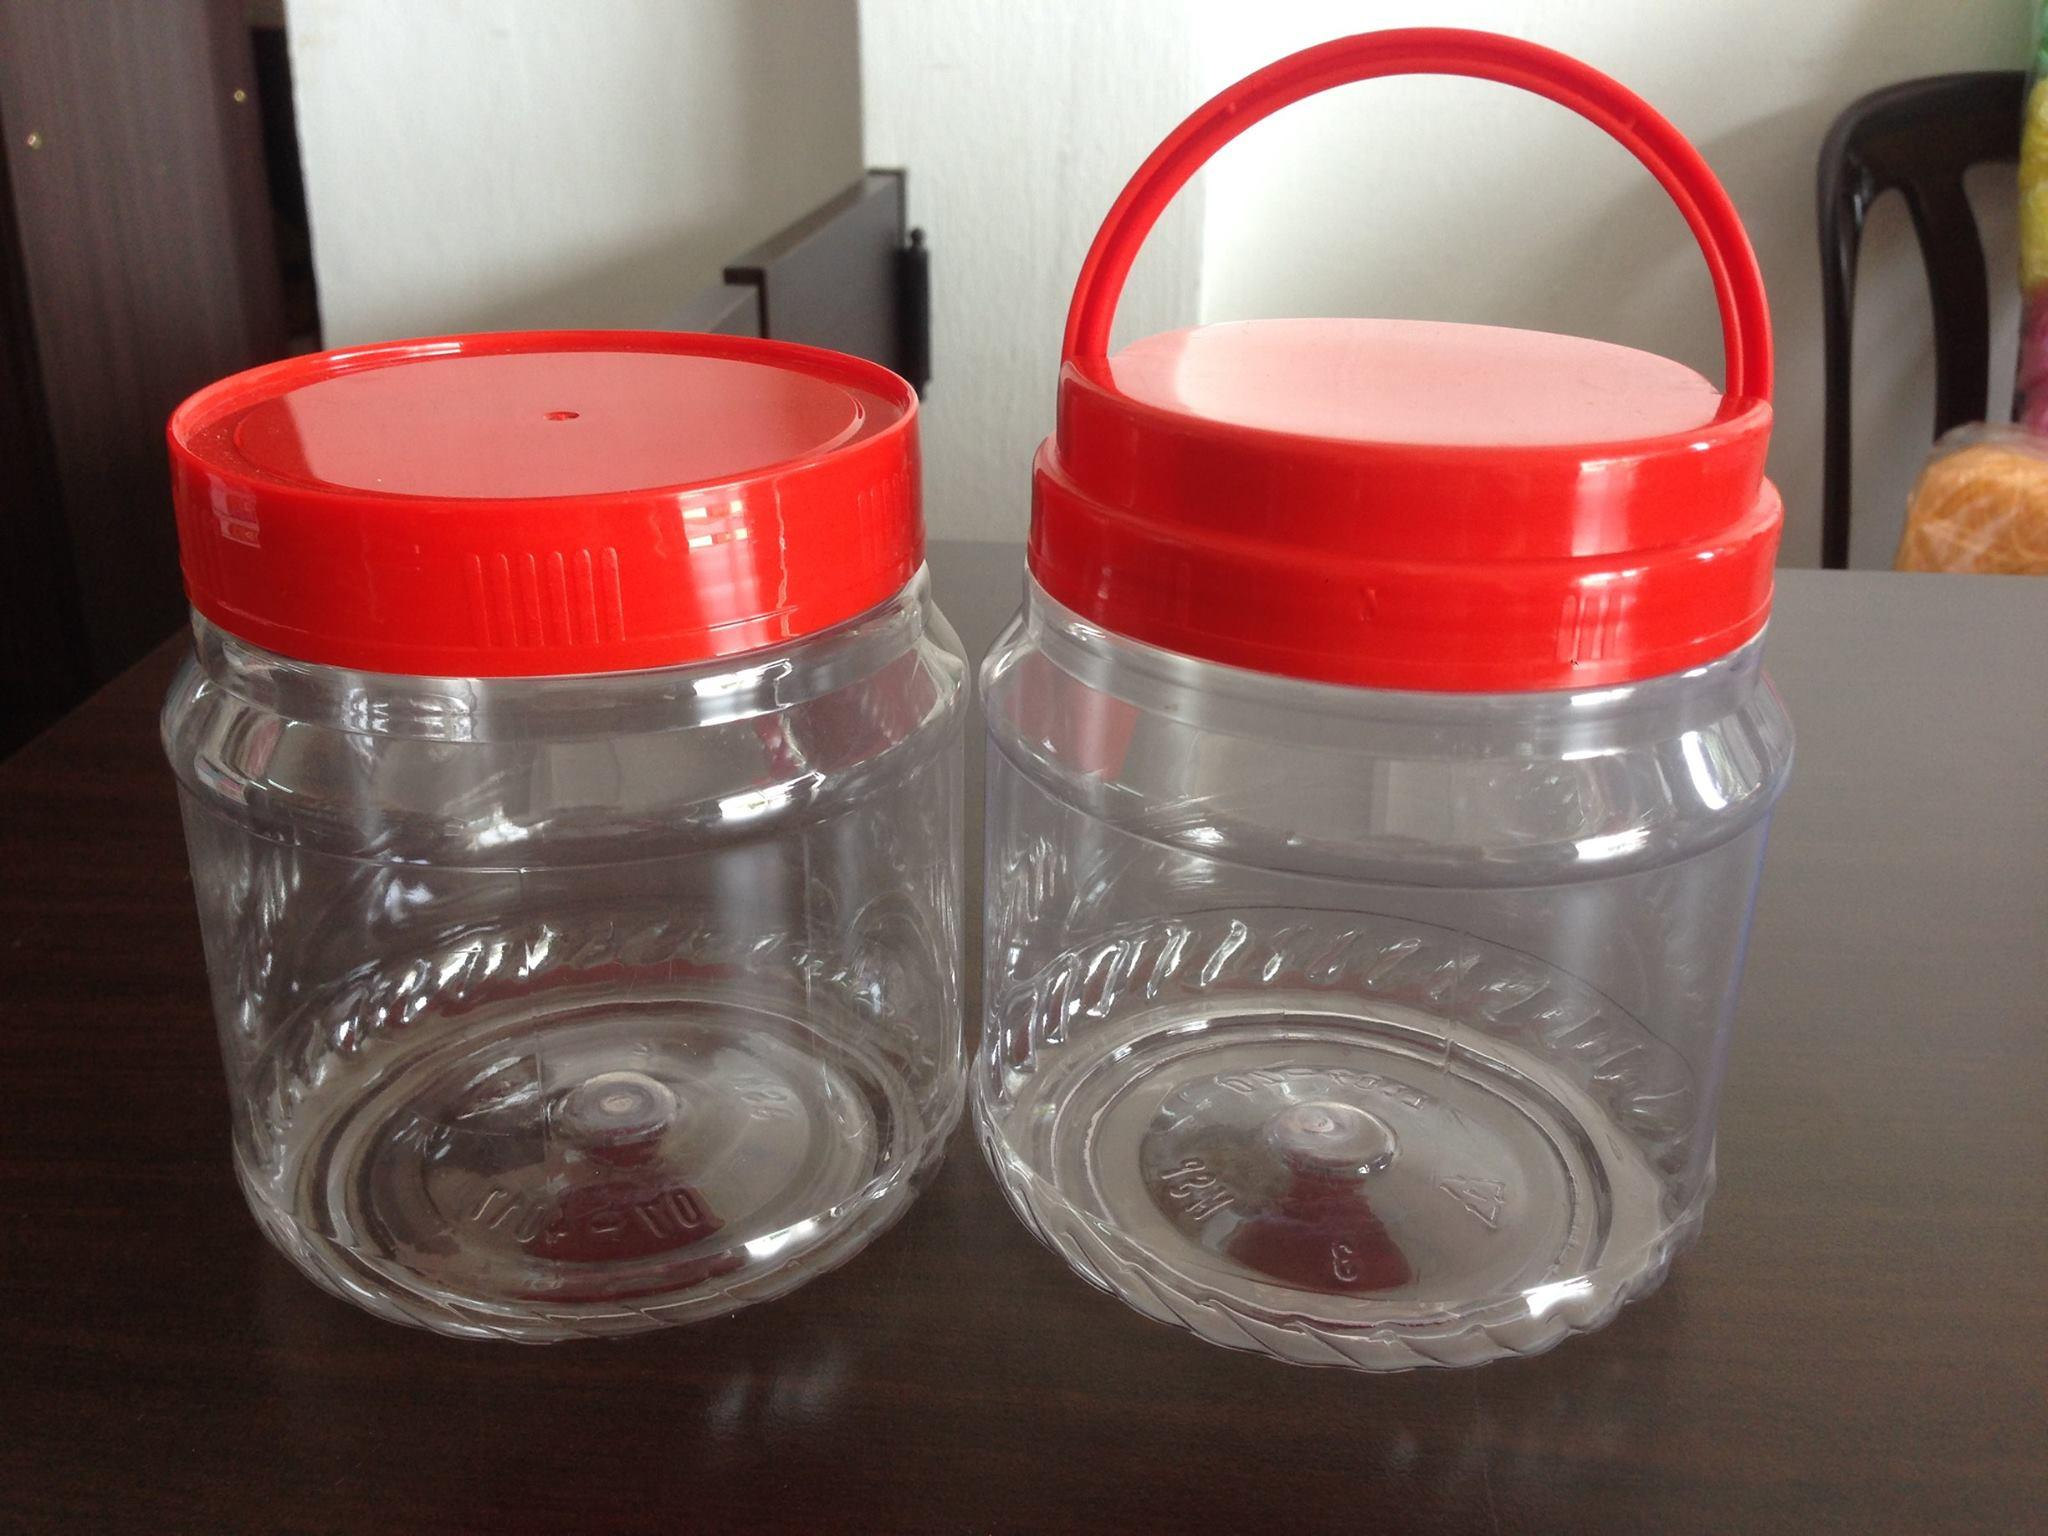plastic: (976, 27, 1787, 1386), (163, 323, 976, 1341)
